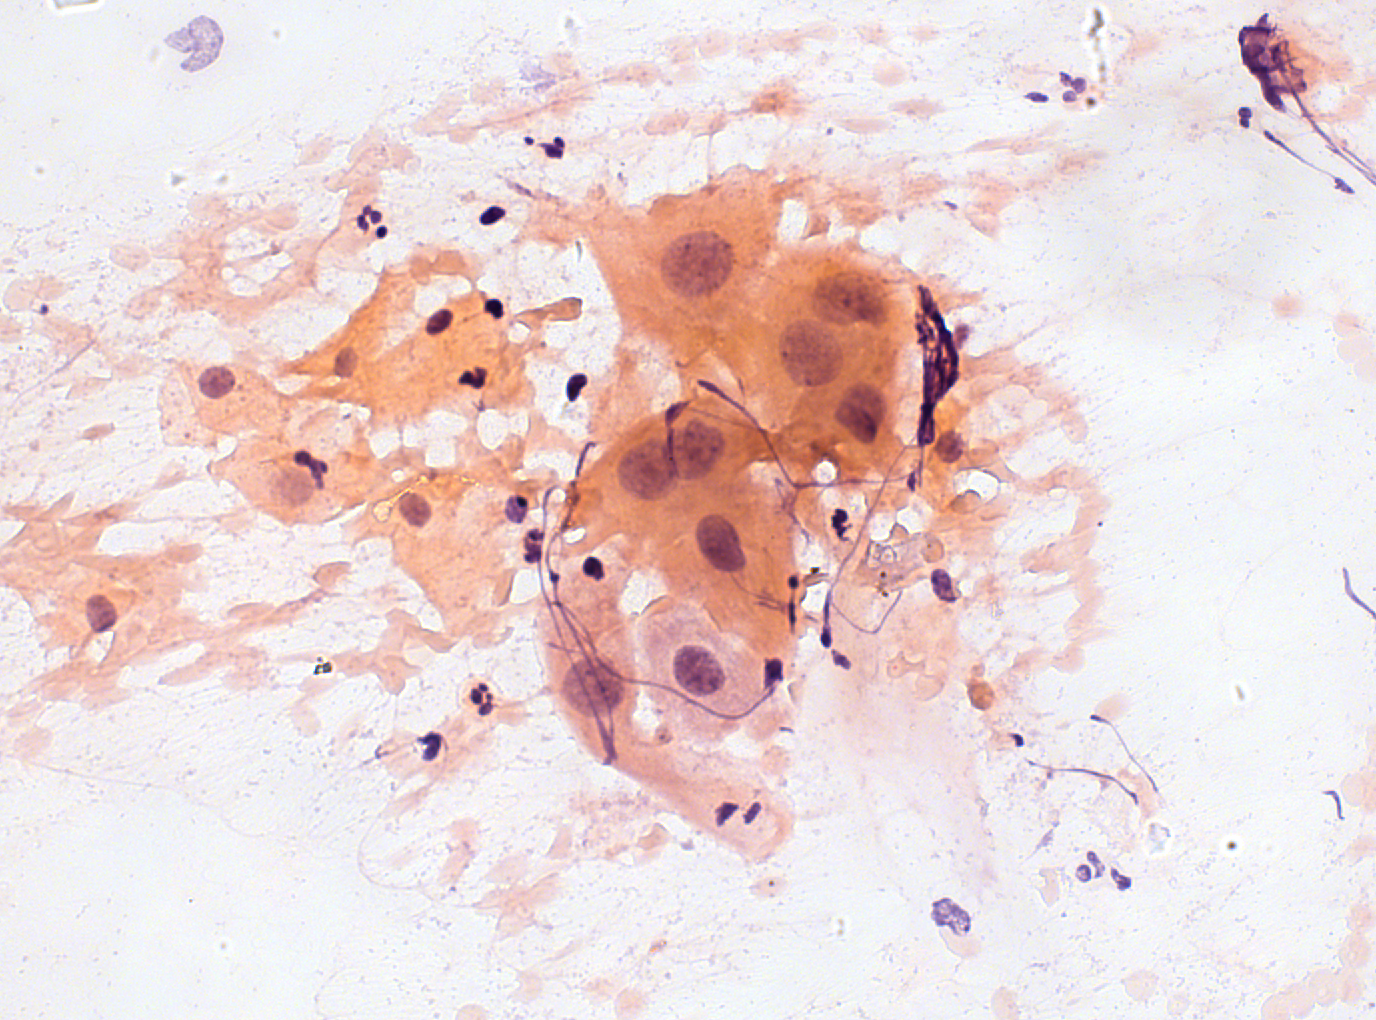Abnormal_Nucleus: (654, 225, 741, 307), (808, 262, 895, 334), (775, 320, 841, 389), (663, 418, 726, 486), (560, 656, 624, 722), (615, 438, 673, 505), (692, 510, 748, 577), (833, 381, 888, 445), (665, 641, 726, 699)
Normal_Nucleus: (192, 363, 244, 403), (80, 591, 122, 636), (394, 487, 434, 532), (326, 342, 363, 382), (933, 426, 967, 469), (423, 307, 457, 340)
